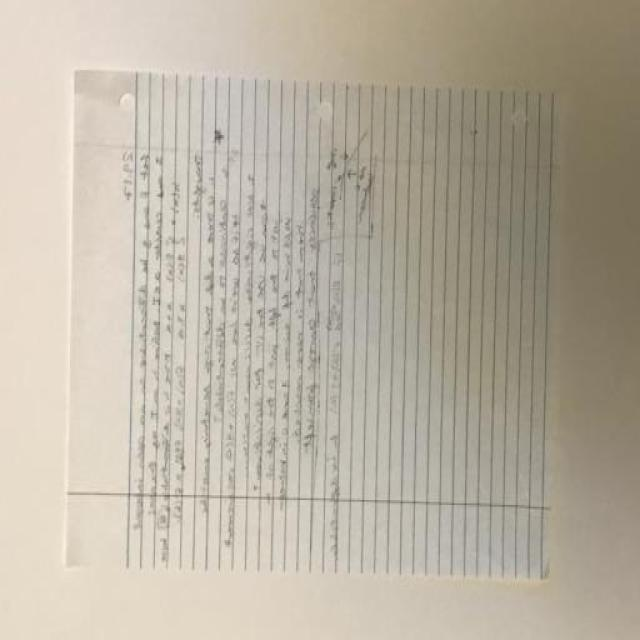paper: (65, 67, 560, 580)
